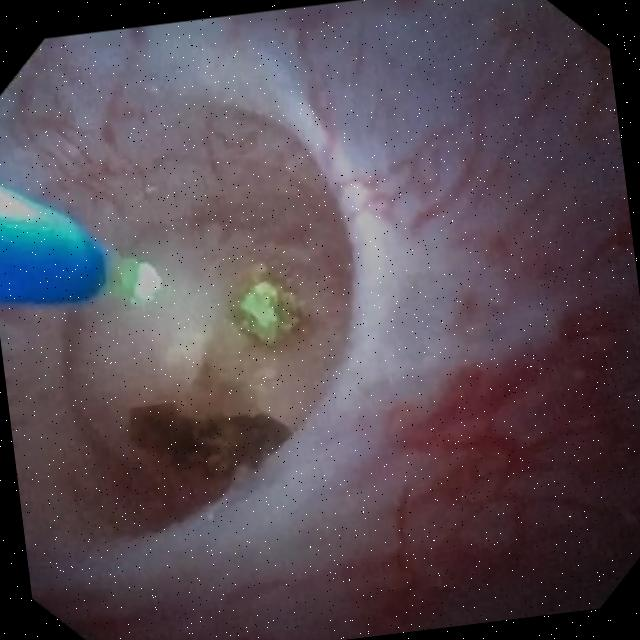laser-fibre: (101, 251, 159, 301)
laser_dot: (248, 298, 271, 320)
stone-new: (128, 403, 289, 478), (237, 266, 300, 344)
